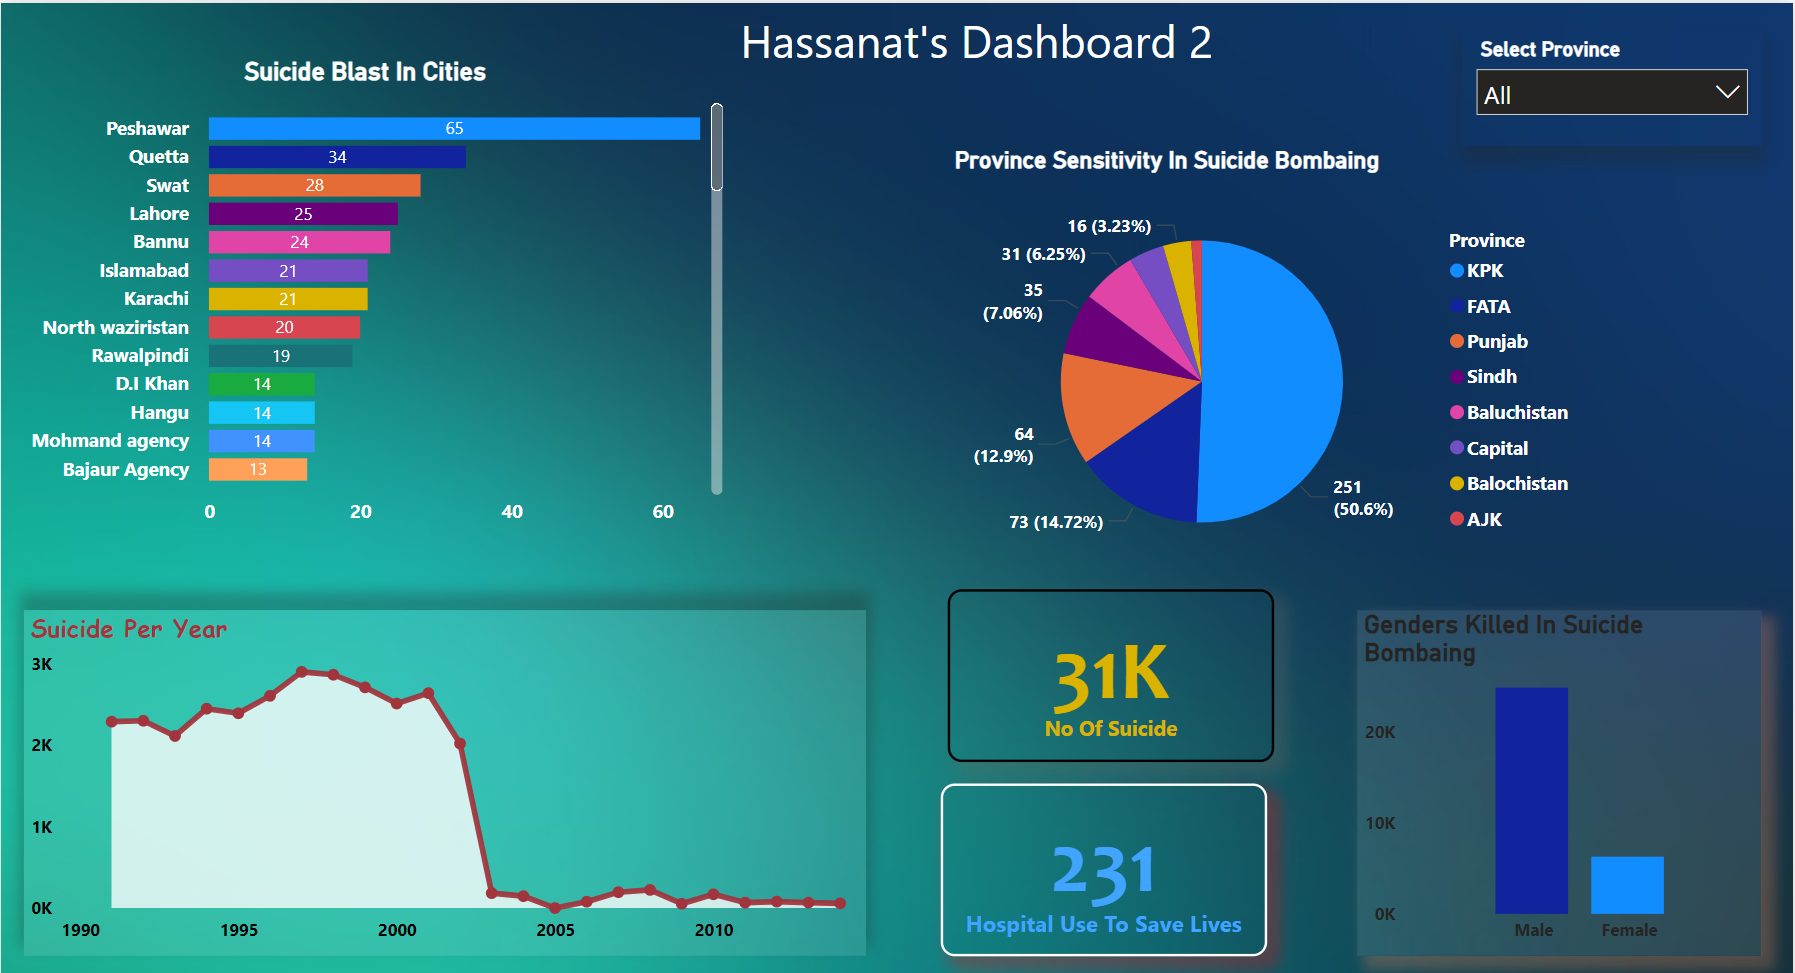

The dashboard page shown, as its layout file describes it:
{"tool":"powerbi","page":{"name":"Page 1","canvas":[1280,720],"ordinal":0},"visuals":[{"type":"areaChart","title":"Suicide Per Year","fields":{"Category":["Sucide Rate.Year"],"Y":["Sucide Rate.SuicideCount"]},"box":[16.4,434,602,246.7],"z":0},{"type":"textbox","box":[0,0,1279.8,75.8],"z":1000},{"type":"card","fields":{"Values":["Sucide Rate.SuicideCount"]},"box":[676.3,419.2,233.4,123.4],"z":2000},{"type":"barChart","title":"Suicide Blast In Cities ","fields":{"Category":["PakistanSuicideAttacks Ver 11 (30-November-2017).City"],"Y":["PakistanSuicideAttacks Ver 11 (30-November-2017).No. of Suicide Blasts"],"Series":["PakistanSuicideAttacks Ver 11 (30-November-2017).City"]},"box":[0,38.6,520.2,343.4],"z":3000},{"type":"pieChart","title":"Province Sensitivity In Suicide Bombaing ","fields":{"Category":["PakistanSuicideAttacks Ver 11 (30-November-2017).Province"],"Y":["PakistanSuicideAttacks Ver 11 (30-November-2017).Location Sensitivity"]},"box":[676.3,102.6,457.8,316.6],"z":4000},{"type":"slicer","fields":{"Values":["PakistanSuicideAttacks Ver 11 (30-November-2017).Province"]},"box":[1043.5,19.3,214,83.2],"z":5000},{"type":"columnChart","title":"Genders Killed In Suicide Bombaing","fields":{"Category":["Sucide Rate.Sex"],"Y":["Sucide Rate.SuicideCount"],"Series":["Sucide Rate.Sex"]},"box":[969.1,434,288.4,246.7],"z":6000},{"type":"card","fields":{"Values":["PakistanSuicideAttacks Ver 11 (30-November-2017).Hospital Names"]},"box":[671.9,557.4,233.4,123.4],"z":7000}]}

Visuals, with their boxes on the page's 1280x720 design canvas (x1, y1, x2, y2). These are canvas units, not pixel positions in the 1795x973 screenshot, which may show the page scaled, cropped or inside an application window:
"Suicide Per Year" areaChart: bbox=[16, 434, 618, 681]
textbox: bbox=[0, 0, 1280, 76]
card - Sucide Rate.SuicideCount: bbox=[676, 419, 910, 543]
"Suicide Blast In Cities " barChart: bbox=[0, 39, 520, 382]
"Province Sensitivity In Suicide Bombaing " pieChart: bbox=[676, 103, 1134, 419]
slicer - PakistanSuicideAttacks Ver 11 (30-November-2017).Province: bbox=[1044, 19, 1258, 102]
"Genders Killed In Suicide Bombaing" columnChart: bbox=[969, 434, 1258, 681]
card - PakistanSuicideAttacks Ver 11 (30-November-2017).Hospital Names: bbox=[672, 557, 905, 681]
